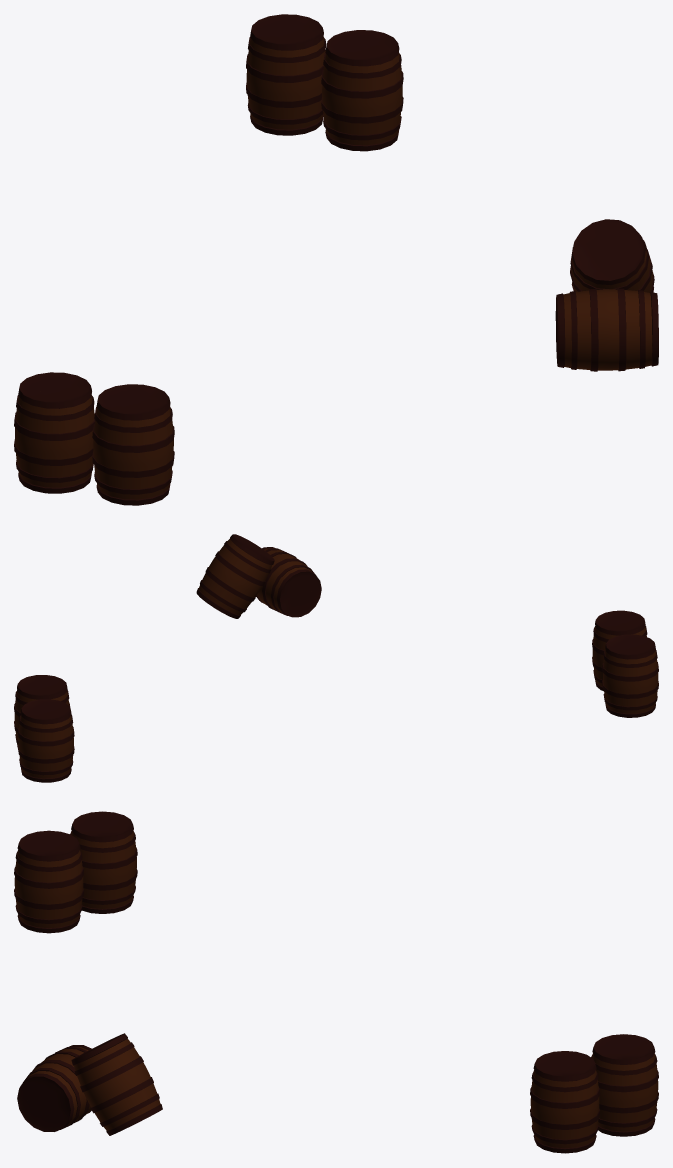
The model's file is barril.obj.
The picture shows the model from 3 angles, top to bottom: view 1: azimuth 30°, elevation 25°; view 2: azimuth 150°, elevation 25°; view 3: azimuth 270°, elevation 25°; orthographic projection. The views are drawn at different scales.
Parts seen in each view (by area): view 1: Barril, Barril_3, Barril_1, Barril_2, Barril_4, Barril_5; view 2: Barril_2, Barril_1, Barril_5, Barril_4, Barril, Barril_3; view 3: Barril_3, Barril, Barril_2, Barril_5, Barril_1, Barril_4.
Part boxes in pixels (x1,y1,x2,y2): Barril: (92, 384, 174, 505); Barril_3: (321, 30, 403, 151); Barril_1: (14, 372, 95, 493); Barril_2: (246, 14, 326, 135); Barril_4: (555, 288, 658, 371); Barril_5: (570, 219, 654, 292); Barril_2: (18, 699, 74, 782); Barril_1: (602, 634, 658, 717); Barril_5: (196, 534, 274, 618); Barril_4: (256, 547, 321, 617); Barril: (592, 610, 647, 691); Barril_3: (14, 675, 70, 749); Barril_3: (530, 1051, 600, 1153); Barril: (14, 830, 83, 933); Barril_2: (591, 1034, 658, 1136); Barril_5: (71, 1033, 162, 1135); Barril_1: (70, 811, 137, 913); Barril_4: (17, 1045, 91, 1131).
Size of the model in its own units: 27.74 by 4.7 by 28.11.
